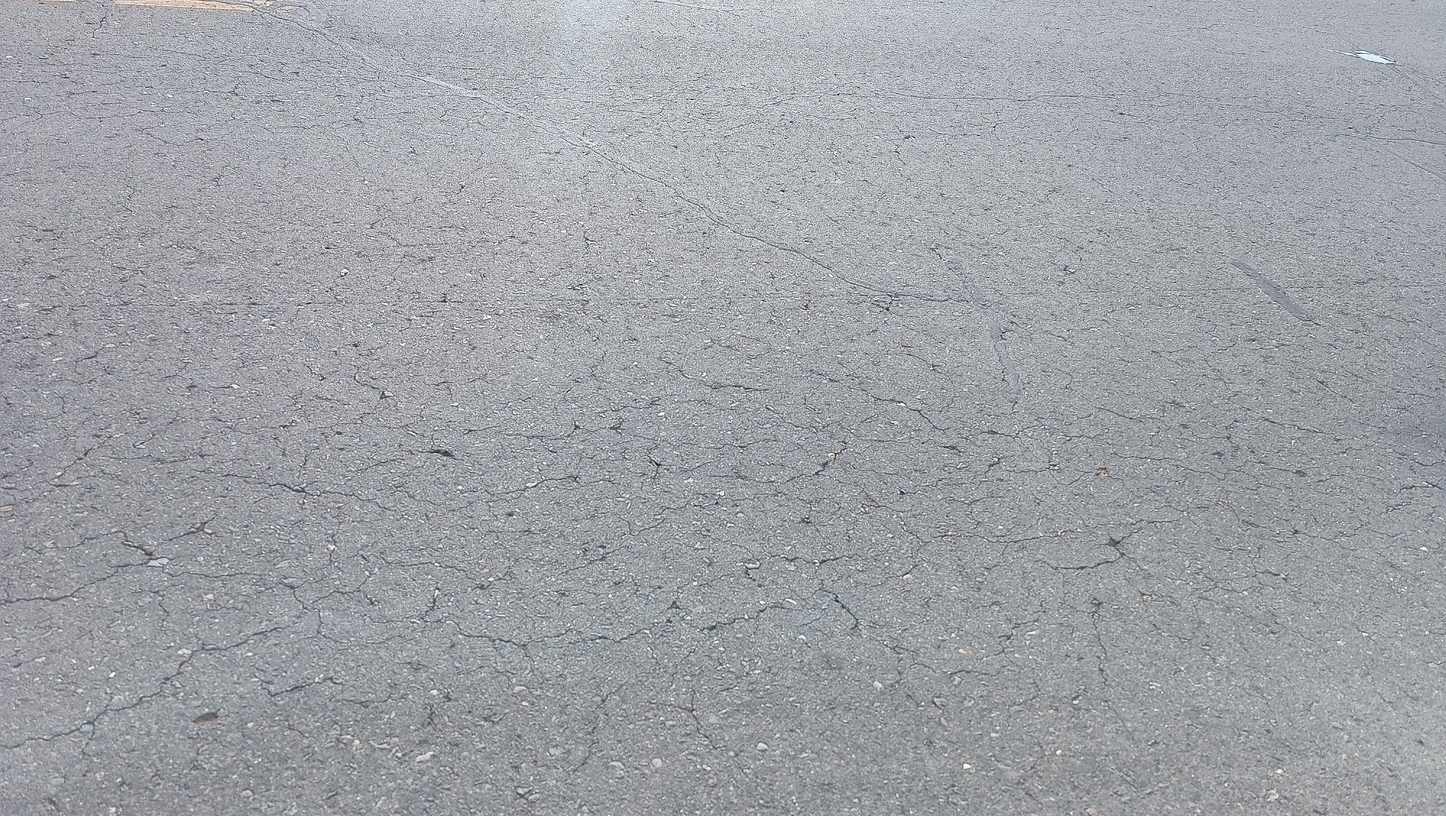GRIETA: (553, 133, 975, 304)
PARCHE: (1230, 259, 1315, 322)
PIEL DE COCODRILO: (0, 323, 1446, 789), (0, 31, 524, 155), (521, 66, 1020, 134)
